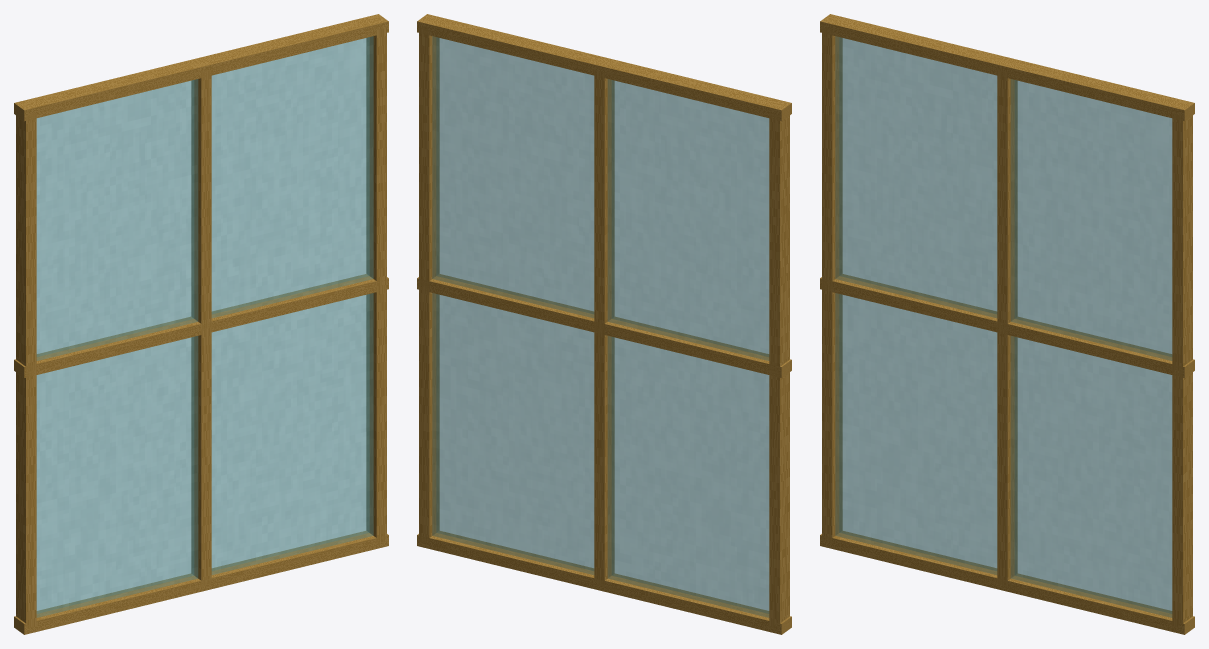
The model's file is greenhouse_wall.glb.
3 views of the same model, side by side, from view 1: azimuth 30°, elevation 25°; view 2: azimuth 150°, elevation 25°; view 3: azimuth 330°, elevation 25° (orthographic).
Visible parts, largest first — view 1: glass, upright (×3), crossbar (×3); view 2: glass, upright (×3), crossbar (×3); view 3: glass, upright (×3), crossbar (×3).
Boxes of the visible parts, box(x1,y1,x2,y2) form: glass: box(36, 36, 373, 617); upright (×3): box(16, 27, 386, 628); crossbar (×3): box(14, 14, 388, 634); glass: box(432, 36, 769, 617); upright (×3): box(419, 27, 789, 627); crossbar (×3): box(417, 14, 791, 634); glass: box(835, 36, 1172, 617); upright (×3): box(822, 27, 1192, 627); crossbar (×3): box(820, 14, 1194, 634).
Bounding box in the file's own units: 2.08 × 2.86 × 0.1.
Materials: 2 (2 with a texture image).
